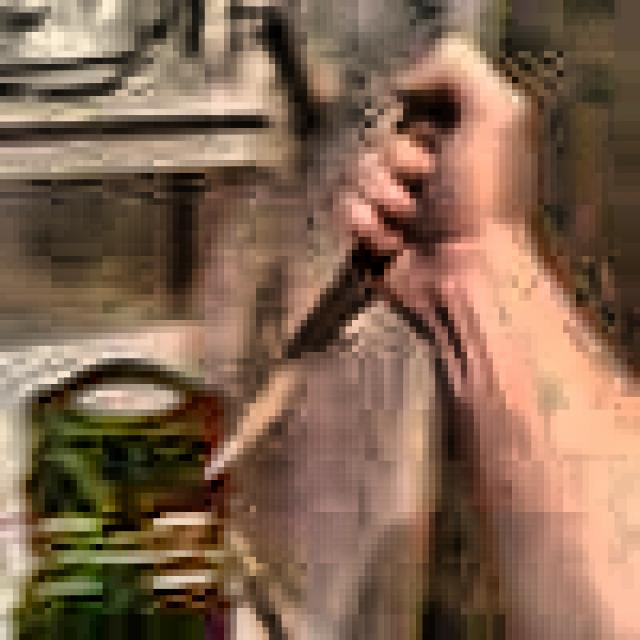knife: (204, 102, 458, 491)
